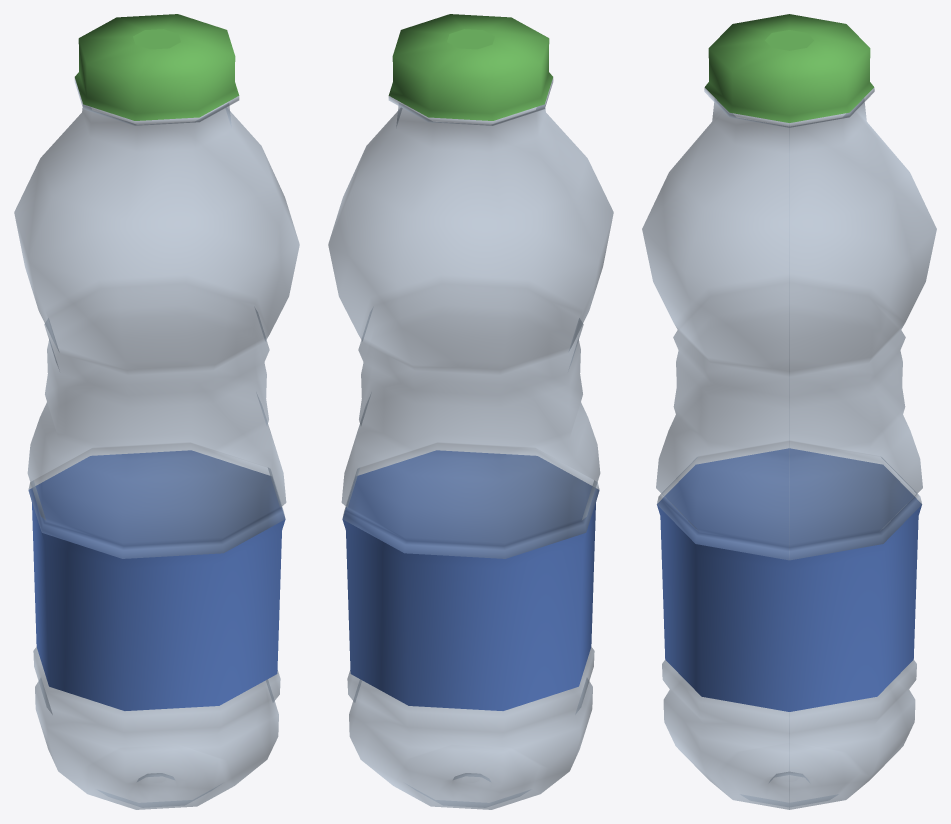
Rendered from bottle.fbx.
3 renders of one model, left to right at view 1: azimuth 30°, elevation 25°; view 2: azimuth 150°, elevation 25°; view 3: azimuth 270°, elevation 25°, orthographic.
Parts seen in each view (by area): view 1: revolvedSurface1; view 2: revolvedSurface1; view 3: revolvedSurface1.
Boxes of the visible parts, x1,y1,x2,y2 form: revolvedSurface1: [14, 14, 299, 809]; revolvedSurface1: [328, 14, 613, 809]; revolvedSurface1: [642, 14, 936, 809].
Size of the model in its own units: 3.31 by 9.25 by 3.31.
